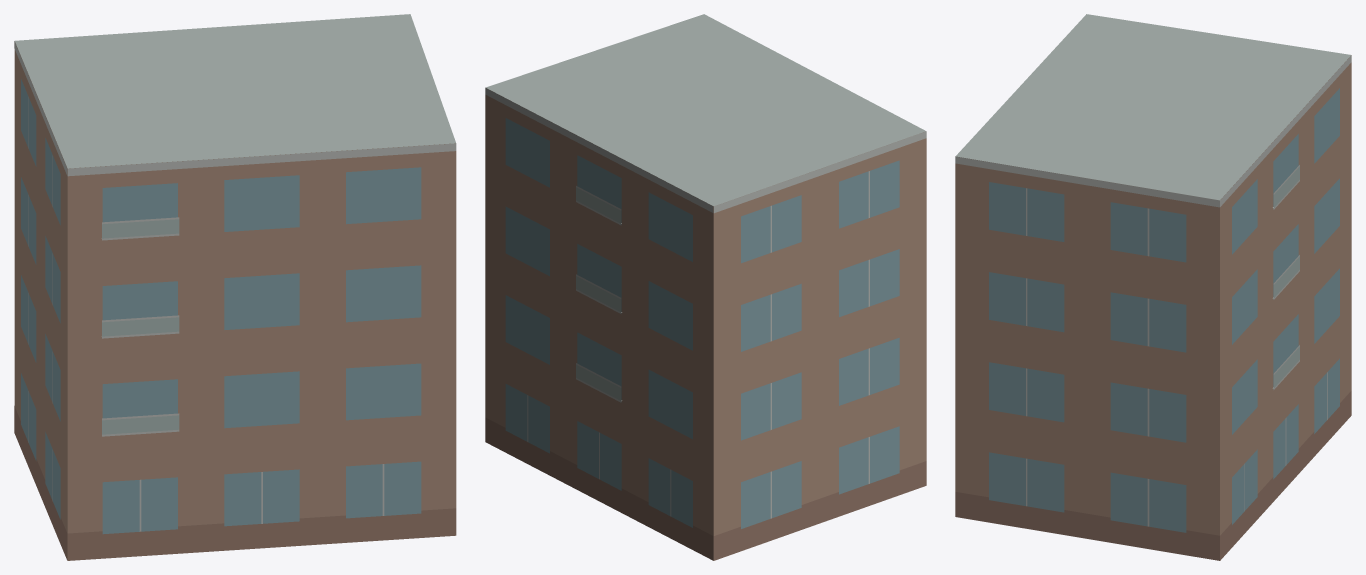
Rendered from survey-upis-32871856.glb.
The picture shows the model from 3 angles, left to right: view 1: azimuth 30°, elevation 25°; view 2: azimuth 150°, elevation 25°; view 3: azimuth 270°, elevation 25°; orthographic projection. The views are drawn at different scales.
Parts seen in each view (by area): view 1: survey-upis-32871856.tmp; view 2: survey-upis-32871856.tmp; view 3: survey-upis-32871856.tmp.
Part boxes in pixels (x1,y1,x2,y2): survey-upis-32871856.tmp: (14,14,456,560); survey-upis-32871856.tmp: (485,14,926,560); survey-upis-32871856.tmp: (955,14,1351,560).
Size of the model in its own units: 13.76 by 12.4 by 12.36.
